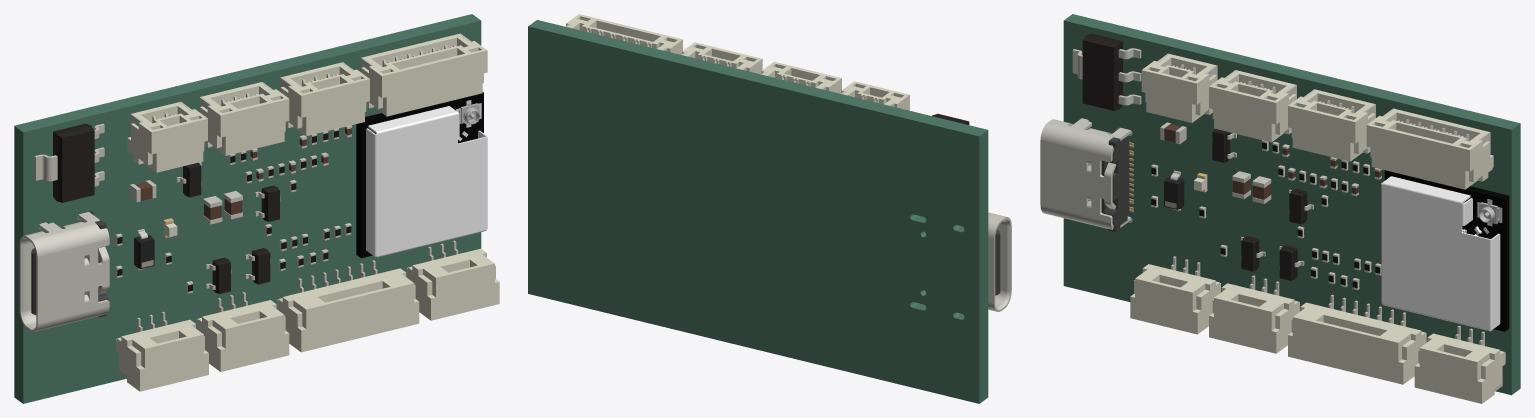
File: board.glb
The picture shows the model from 3 angles, left to right: view 1: azimuth 30°, elevation 25°; view 2: azimuth 150°, elevation 25°; view 3: azimuth 330°, elevation 25°; orthographic projection. The views are drawn at different scales.
Visible parts, largest first — view 1: =>[0:1:1:28], =>[0:1:1:27]_0f3ac5, =>[0:1:1:21]_25656f, =>[0:1:1:15]_4bc319, =>[0:1:1:23]_1c8961, =>[0:1:1:13]_2_da0ca7, =>[0:1:1:13], =>[0:1:1:13]_1_646a2e, =>[0:1:1:13]_4_9fb816, =>[0:1:1:13]_3_01a816, =>[0:1:1:25]_96ce64, =>[0:1:1:17]_34588e (+9 smaller); view 2: =>[0:1:1:28], =>[0:1:1:21]_25656f, =>[0:1:1:23]_1c8961, =>[0:1:1:13]_1_646a2e, =>[0:1:1:13], =>[0:1:1:25]_96ce64; view 3: =>[0:1:1:28], =>[0:1:1:27]_0f3ac5, =>[0:1:1:15]_4bc319, =>[0:1:1:23]_1c8961, =>[0:1:1:21]_25656f, =>[0:1:1:13]_3_01a816, =>[0:1:1:13]_1_646a2e, =>[0:1:1:13], =>[0:1:1:13]_4_9fb816, =>[0:1:1:13]_2_da0ca7, =>[0:1:1:25]_96ce64, =>[0:1:1:17]_34588e (+9 smaller).
Boxes of the visible parts, left/top/right/bottom form: =>[0:1:1:28]: left=14, top=14, right=481, bottom=403; =>[0:1:1:27]_0f3ac5: left=366, top=106, right=487, bottom=257; =>[0:1:1:21]_25656f: left=19, top=212, right=109, bottom=332; =>[0:1:1:15]_4bc319: left=277, top=268, right=419, bottom=352; =>[0:1:1:23]_1c8961: left=361, top=34, right=487, bottom=116; =>[0:1:1:13]_2_da0ca7: left=116, top=319, right=208, bottom=391; =>[0:1:1:13]: left=200, top=82, right=289, bottom=155; =>[0:1:1:13]_1_646a2e: left=280, top=62, right=369, bottom=136; =>[0:1:1:13]_4_9fb816: left=196, top=300, right=289, bottom=371; =>[0:1:1:13]_3_01a816: left=407, top=248, right=499, bottom=320; =>[0:1:1:25]_96ce64: left=127, top=102, right=207, bottom=172; =>[0:1:1:17]_34588e: left=53, top=123, right=94, bottom=202; =>[0:1:1:28]: left=528, top=20, right=988, bottom=403; =>[0:1:1:21]_25656f: left=920, top=212, right=1011, bottom=314; =>[0:1:1:23]_1c8961: left=566, top=14, right=682, bottom=54; =>[0:1:1:13]_1_646a2e: left=682, top=42, right=762, bottom=74; =>[0:1:1:13]: left=761, top=61, right=841, bottom=93; =>[0:1:1:25]_96ce64: left=841, top=81, right=909, bottom=110; =>[0:1:1:28]: left=1063, top=14, right=1520, bottom=395; =>[0:1:1:27]_0f3ac5: left=1381, top=176, right=1500, bottom=331; =>[0:1:1:15]_4bc319: left=1288, top=302, right=1426, bottom=384; =>[0:1:1:23]_1c8961: left=1366, top=109, right=1493, bottom=189; =>[0:1:1:21]_25656f: left=1040, top=118, right=1131, bottom=229; =>[0:1:1:13]_3_01a816: left=1414, top=333, right=1505, bottom=403; =>[0:1:1:13]_1_646a2e: left=1288, top=89, right=1375, bottom=161; =>[0:1:1:13]: left=1209, top=70, right=1296, bottom=142; =>[0:1:1:13]_4_9fb816: left=1209, top=283, right=1299, bottom=353; =>[0:1:1:13]_2_da0ca7: left=1130, top=264, right=1220, bottom=334; =>[0:1:1:25]_96ce64: left=1141, top=54, right=1216, bottom=122; =>[0:1:1:17]_34588e: left=1082, top=33, right=1122, bottom=110.
Size of the model in its own units: 47.08 by 26.4 by 5.89.
